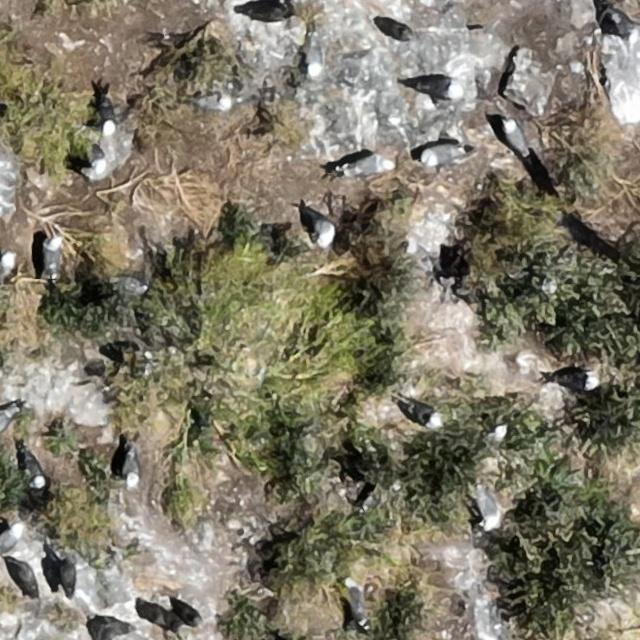umineko: (553, 370, 598, 390), (412, 78, 456, 98), (404, 401, 439, 426), (347, 156, 389, 176), (305, 33, 323, 79), (479, 490, 501, 525), (422, 146, 460, 166), (376, 20, 413, 40), (347, 583, 366, 621), (611, 13, 637, 39), (312, 217, 334, 247), (505, 120, 526, 151), (45, 235, 62, 273), (103, 120, 118, 160), (1, 524, 22, 552), (195, 94, 230, 110), (124, 455, 140, 489), (27, 456, 44, 486), (0, 253, 13, 279), (0, 407, 12, 434)
